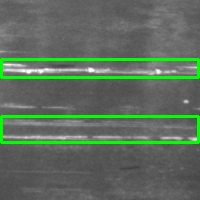scratches: (1, 116, 198, 142), (1, 59, 198, 77)
